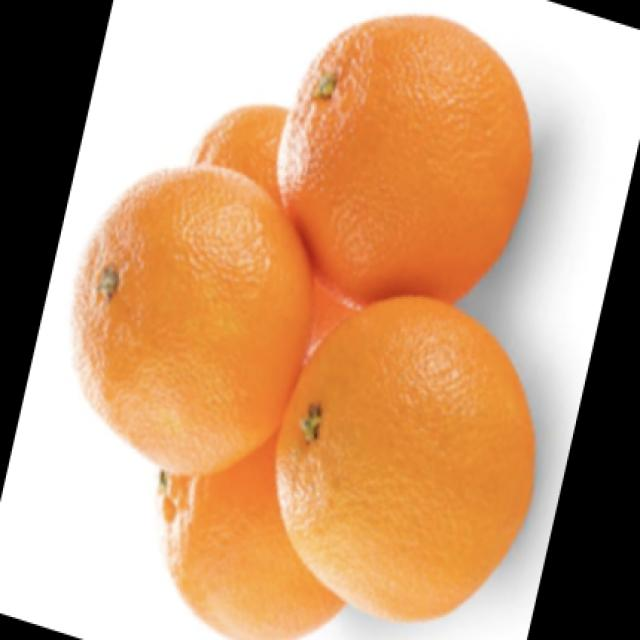fresh: (63, 0, 552, 640)
